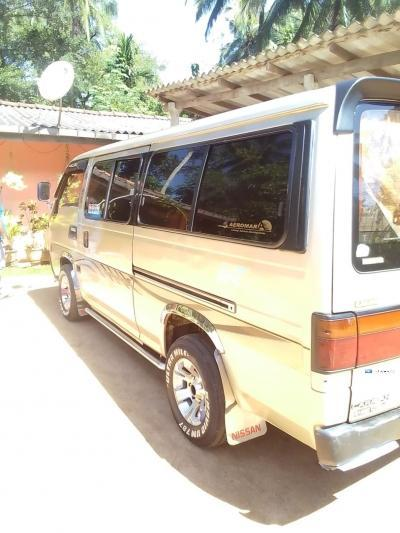Van: (46, 79, 399, 470)
